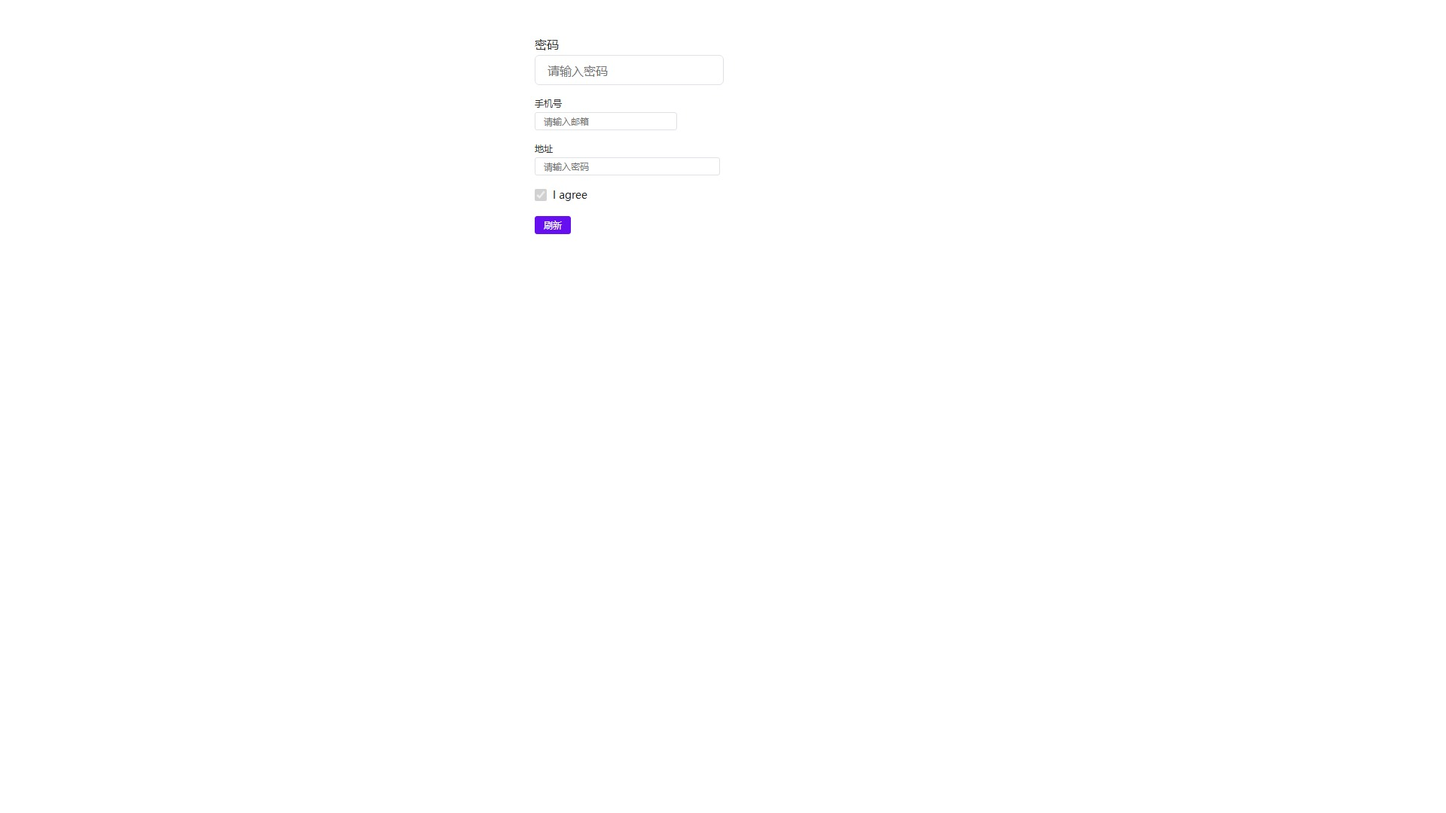button: (535, 216, 571, 234)
checkbox: (535, 189, 547, 201)
icon: (553, 187, 587, 202)
input: (535, 55, 724, 85), (535, 157, 720, 175), (535, 112, 677, 130)
radio: (535, 187, 587, 202)
